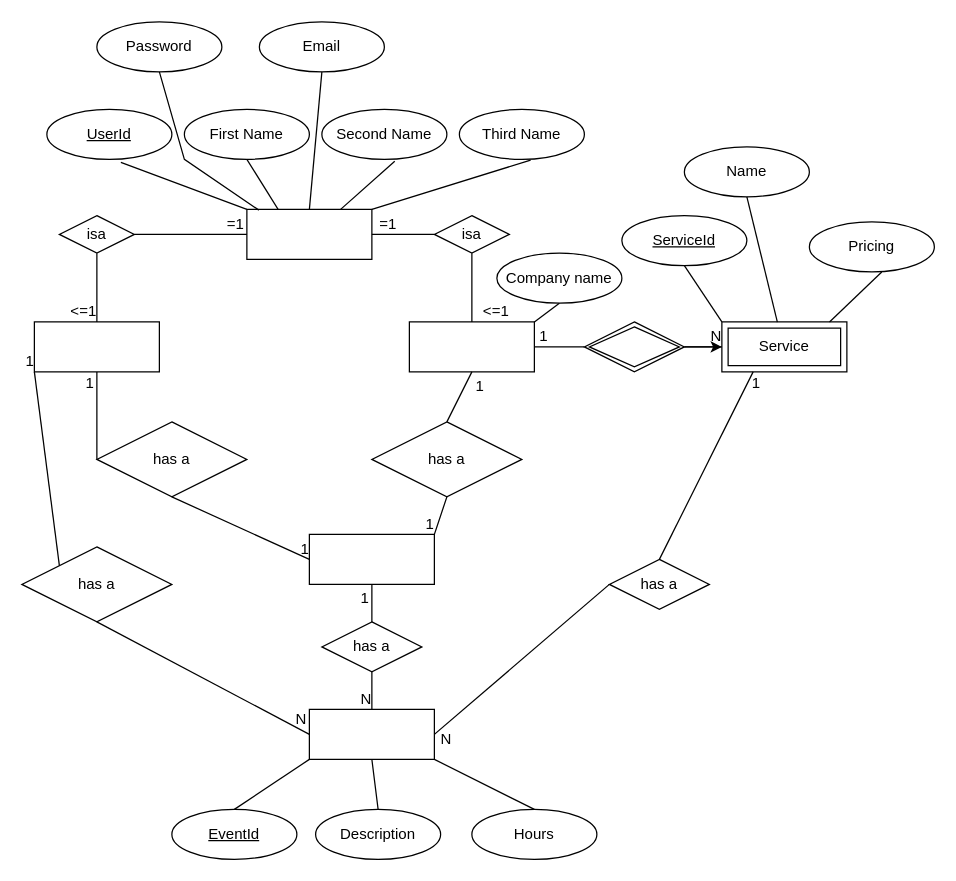
The diagram is 956 pixels wide and 881 high, and some of its shapes have lost their labels. Each missing label, with the box of its shape:
Caledar: (308, 533, 434, 584)
Event: (308, 708, 434, 759)
provides: (583, 321, 684, 372)
Service Provider: (408, 321, 534, 372)
Service User: (33, 321, 159, 372)
User: (246, 208, 372, 259)
